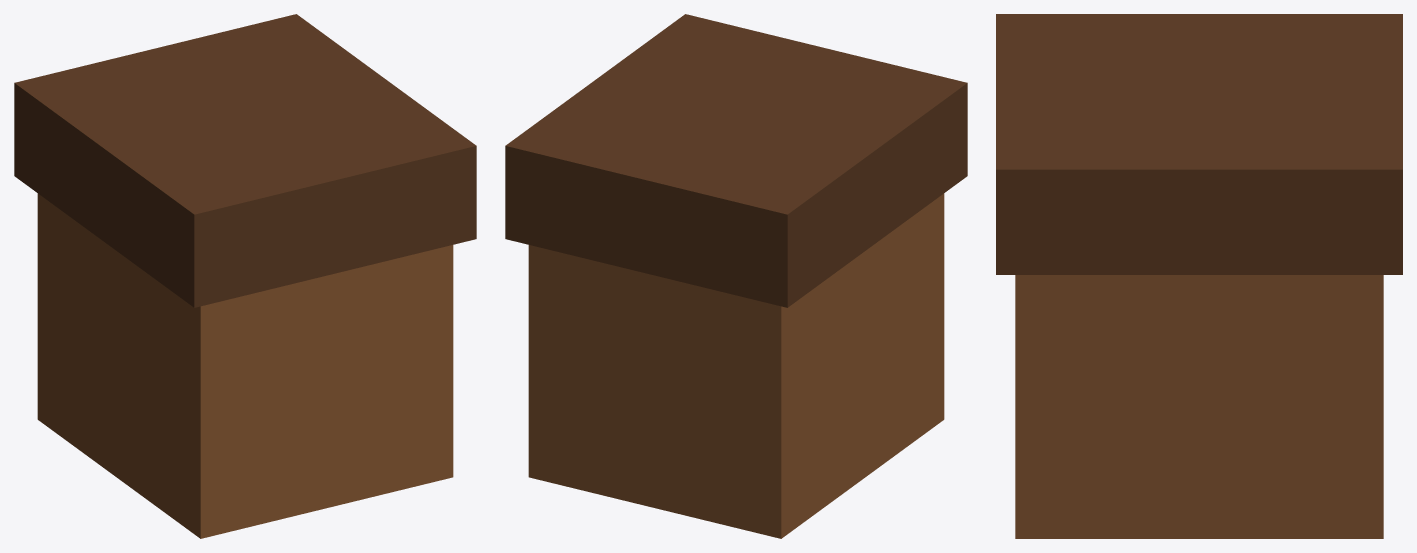
File: hide_gloves.glb
The picture shows the model from 3 angles, left to right: view 1: azimuth 30°, elevation 25°; view 2: azimuth 150°, elevation 25°; view 3: azimuth 270°, elevation 25°; orthographic projection. The views are drawn at different scales.
Parts seen in each view (by area): view 1: hide_gloves; view 2: hide_gloves; view 3: hide_gloves.
Part boxes in pixels (x1,y1,x2,y2): hide_gloves: (14, 14, 476, 538); hide_gloves: (505, 14, 967, 538); hide_gloves: (996, 14, 1402, 538).
Bounding box in the file's own units: 0.19 × 0.215 × 0.21.
